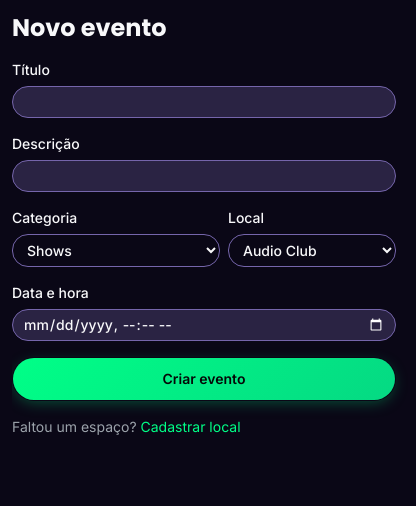
Test case: página Novo evento › mostra o erro de validação do upstream em pt-BR
Step 1. Type "Rock Night" into the field labelled "Título" → (204, 102), box [12,86,396,118]
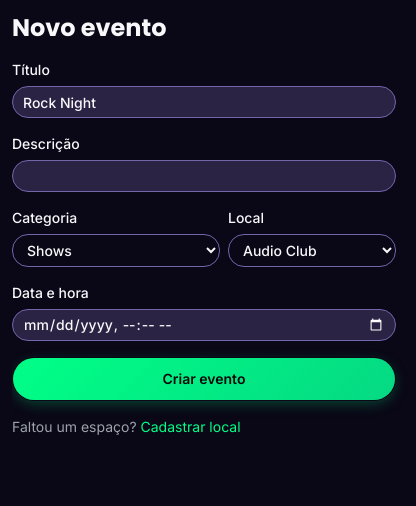
Step 2. Type "Uma noite de rock com bandas convidadas." into the field labelled "Descrição" → (204, 176), box [12,160,396,192]
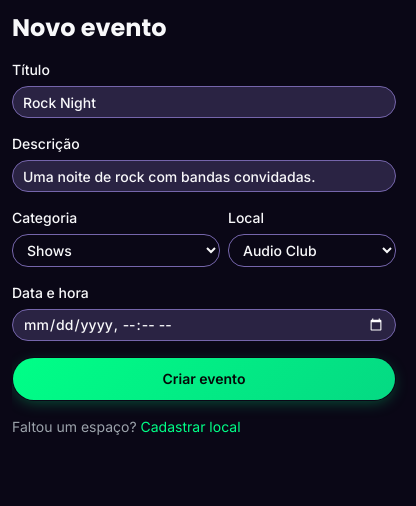
Step 3. Select "Shows" in the dropdown labelled "Categoria" → (116, 250), box [12,234,220,267]
Step 4. Select "Audio Club" in the dropdown labelled "Local" → (312, 250), box [228,234,396,267]
Step 5. Type "2026-11-20T20:00" into the field labelled "Data e hora" → (204, 325), box [12,309,396,341]
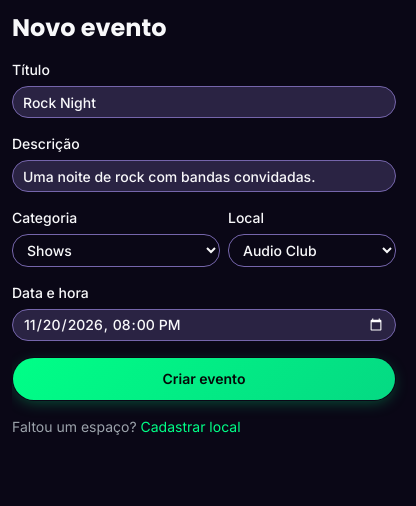
Step 6. Click the button "Criar evento" → (204, 379), box [12,357,396,401]
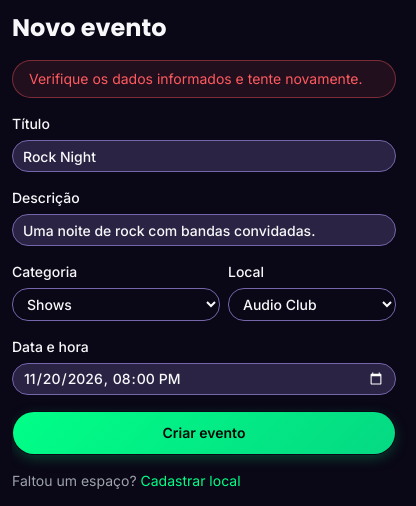
Check: the message reads "Verifique os dados informados e tente novamente.", box [29,70,362,87]
